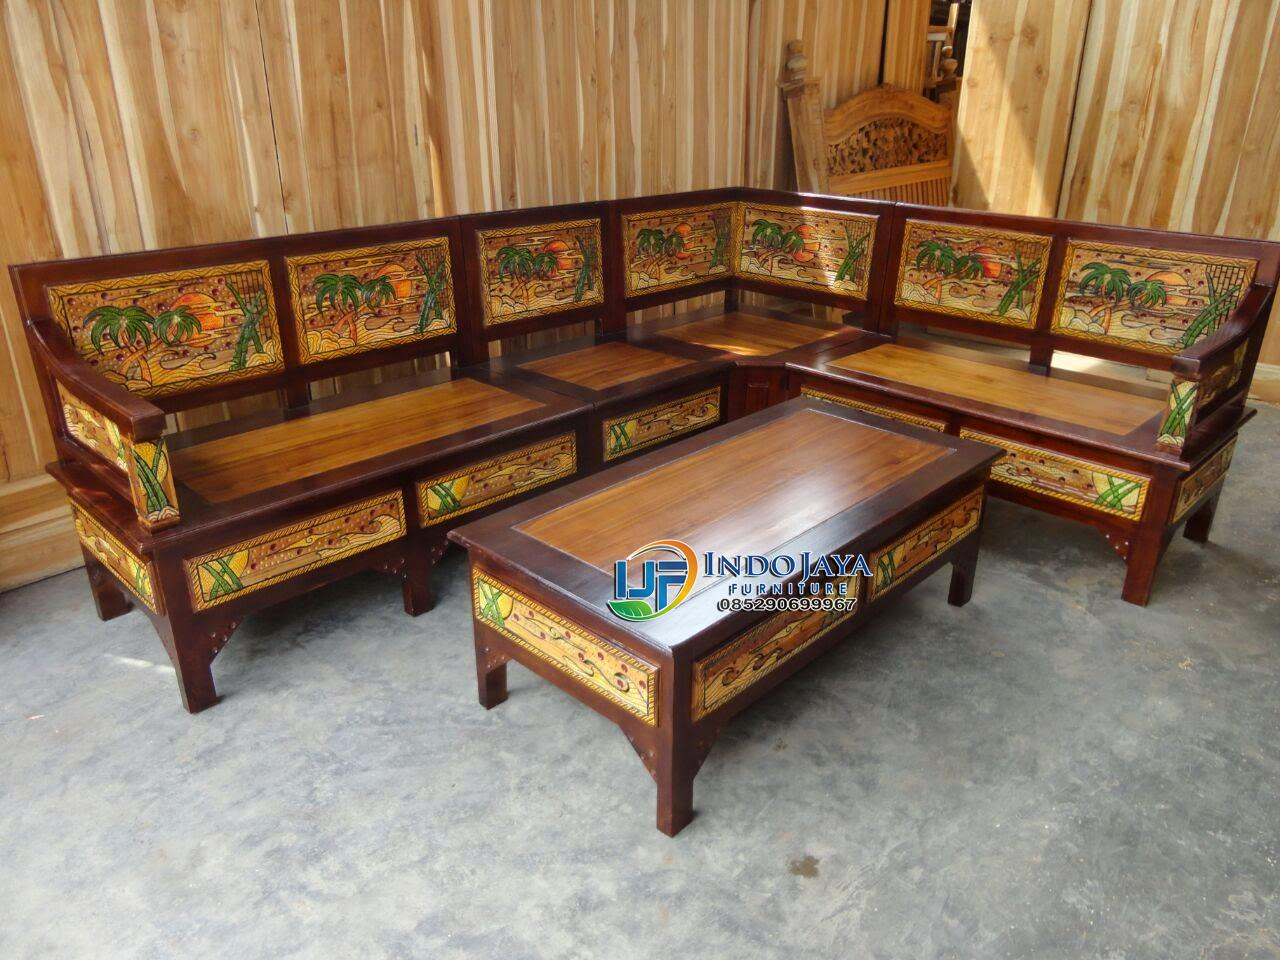Carving Chair: (15, 224, 1280, 663)
Carving Table: (444, 404, 1010, 799)
